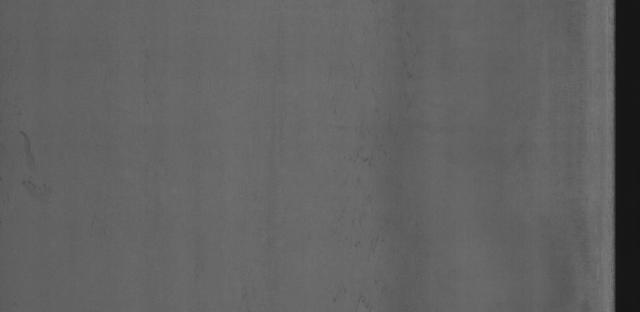water_spot: (19, 124, 65, 212)
